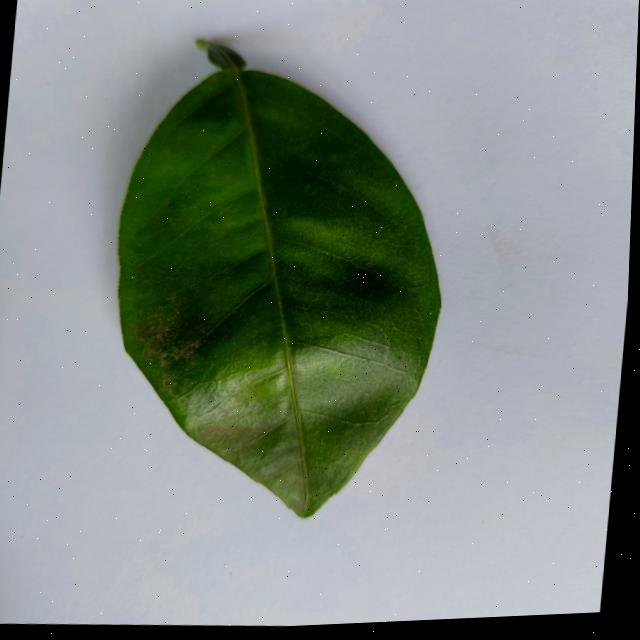greening: (118, 43, 439, 517)
